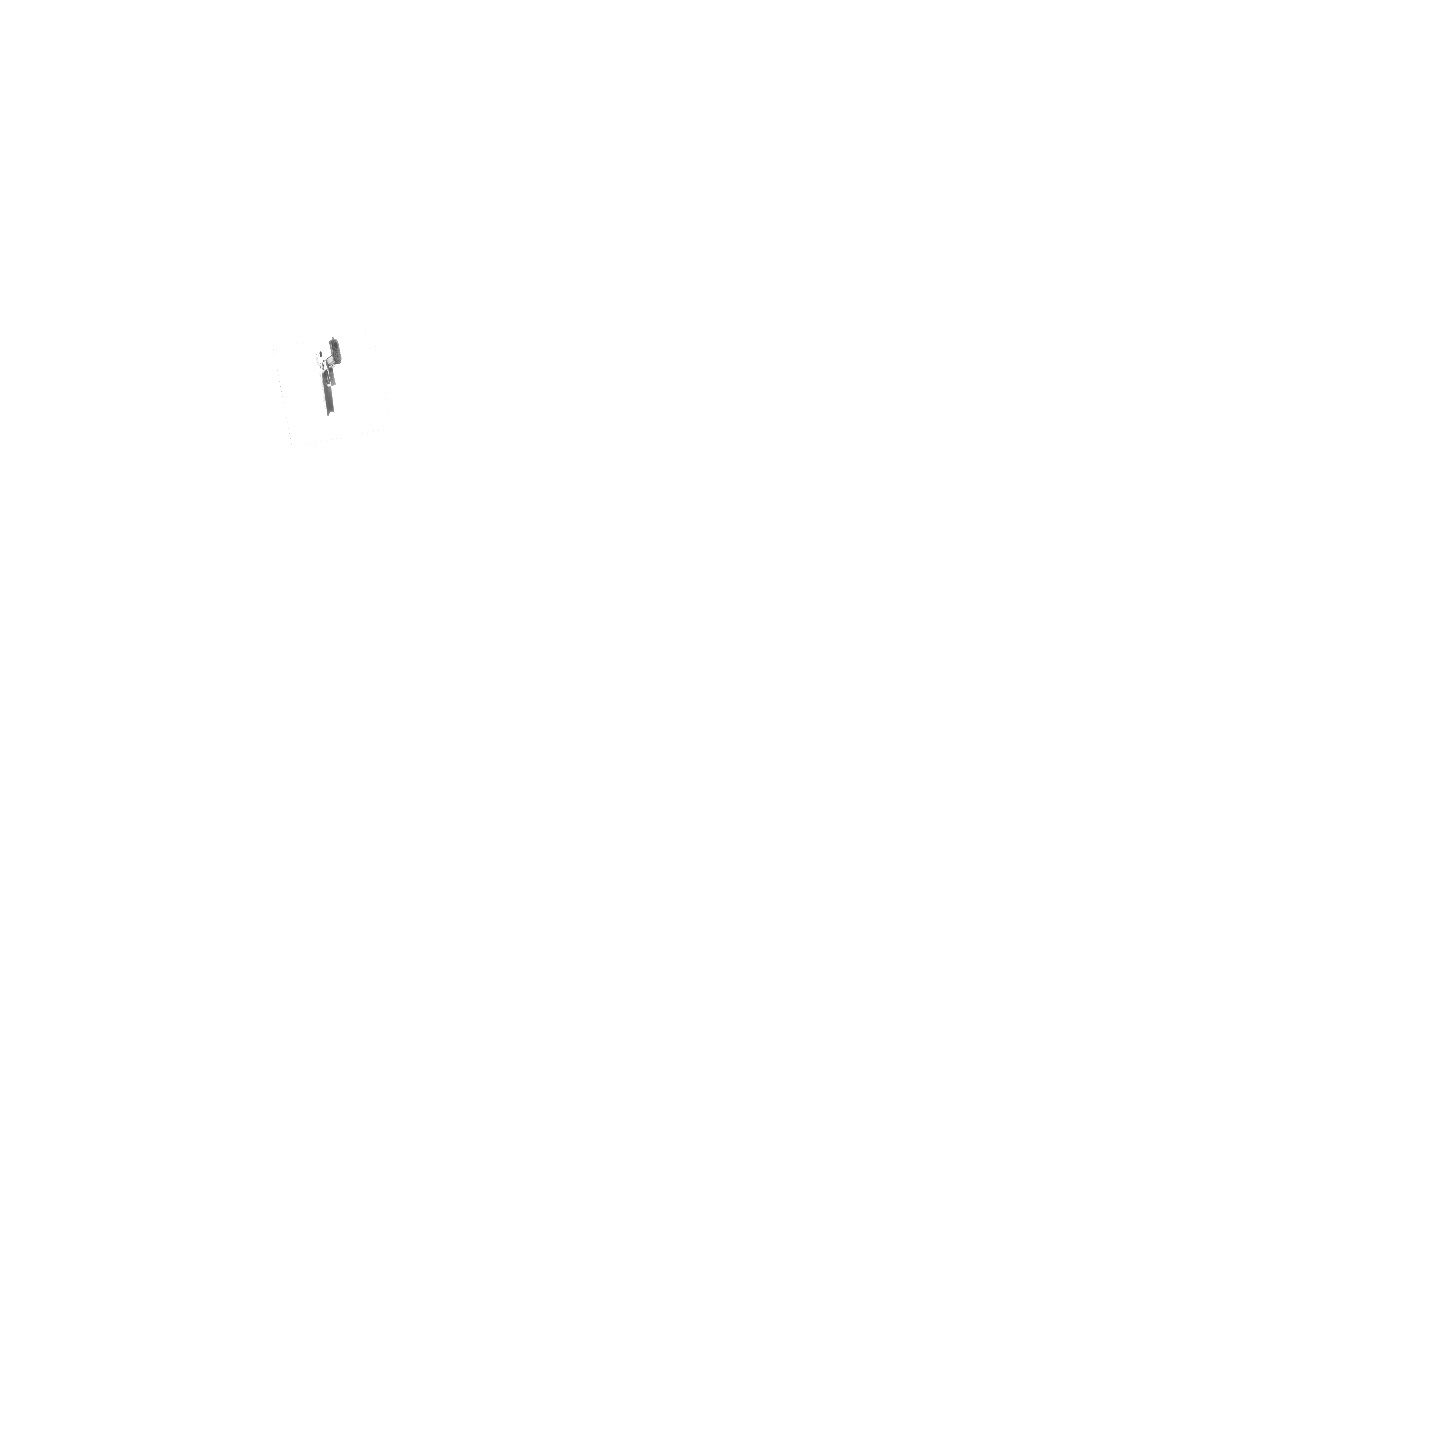gun: (311, 336, 348, 421)
